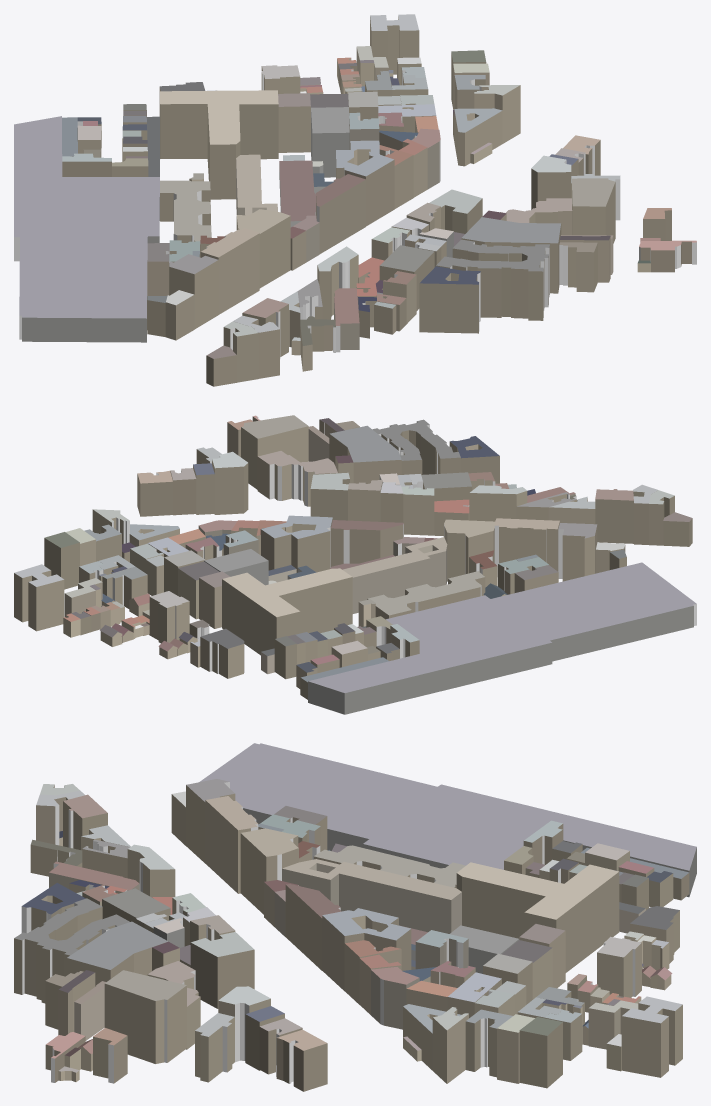
3 renders of one model, top to bottom at view 1: azimuth 30°, elevation 25°; view 2: azimuth 150°, elevation 25°; view 3: azimuth 270°, elevation 25°, orthographic. The views are drawn at different scales.
Parts seen in each view (by area): view 1: tuile; view 2: tuile; view 3: tuile.
Part boxes in pixels (x1=…): tuile: x1=14, y1=14, x2=696, y2=386; tuile: x1=14, y1=415, x2=696, y2=714; tuile: x1=14, y1=743, x2=696, y2=1091.
Size of the model in its own units: 312 by 30.13 by 278.
